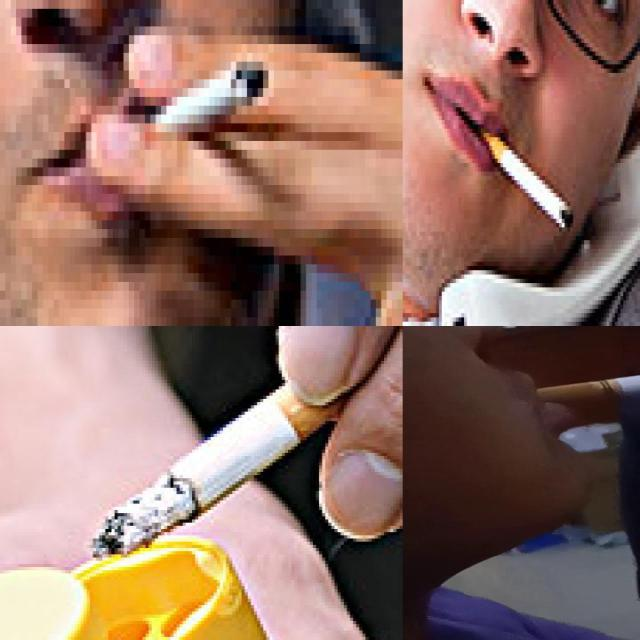smoking: (87, 352, 369, 561), (479, 130, 574, 232), (145, 53, 274, 115), (532, 352, 640, 404)
